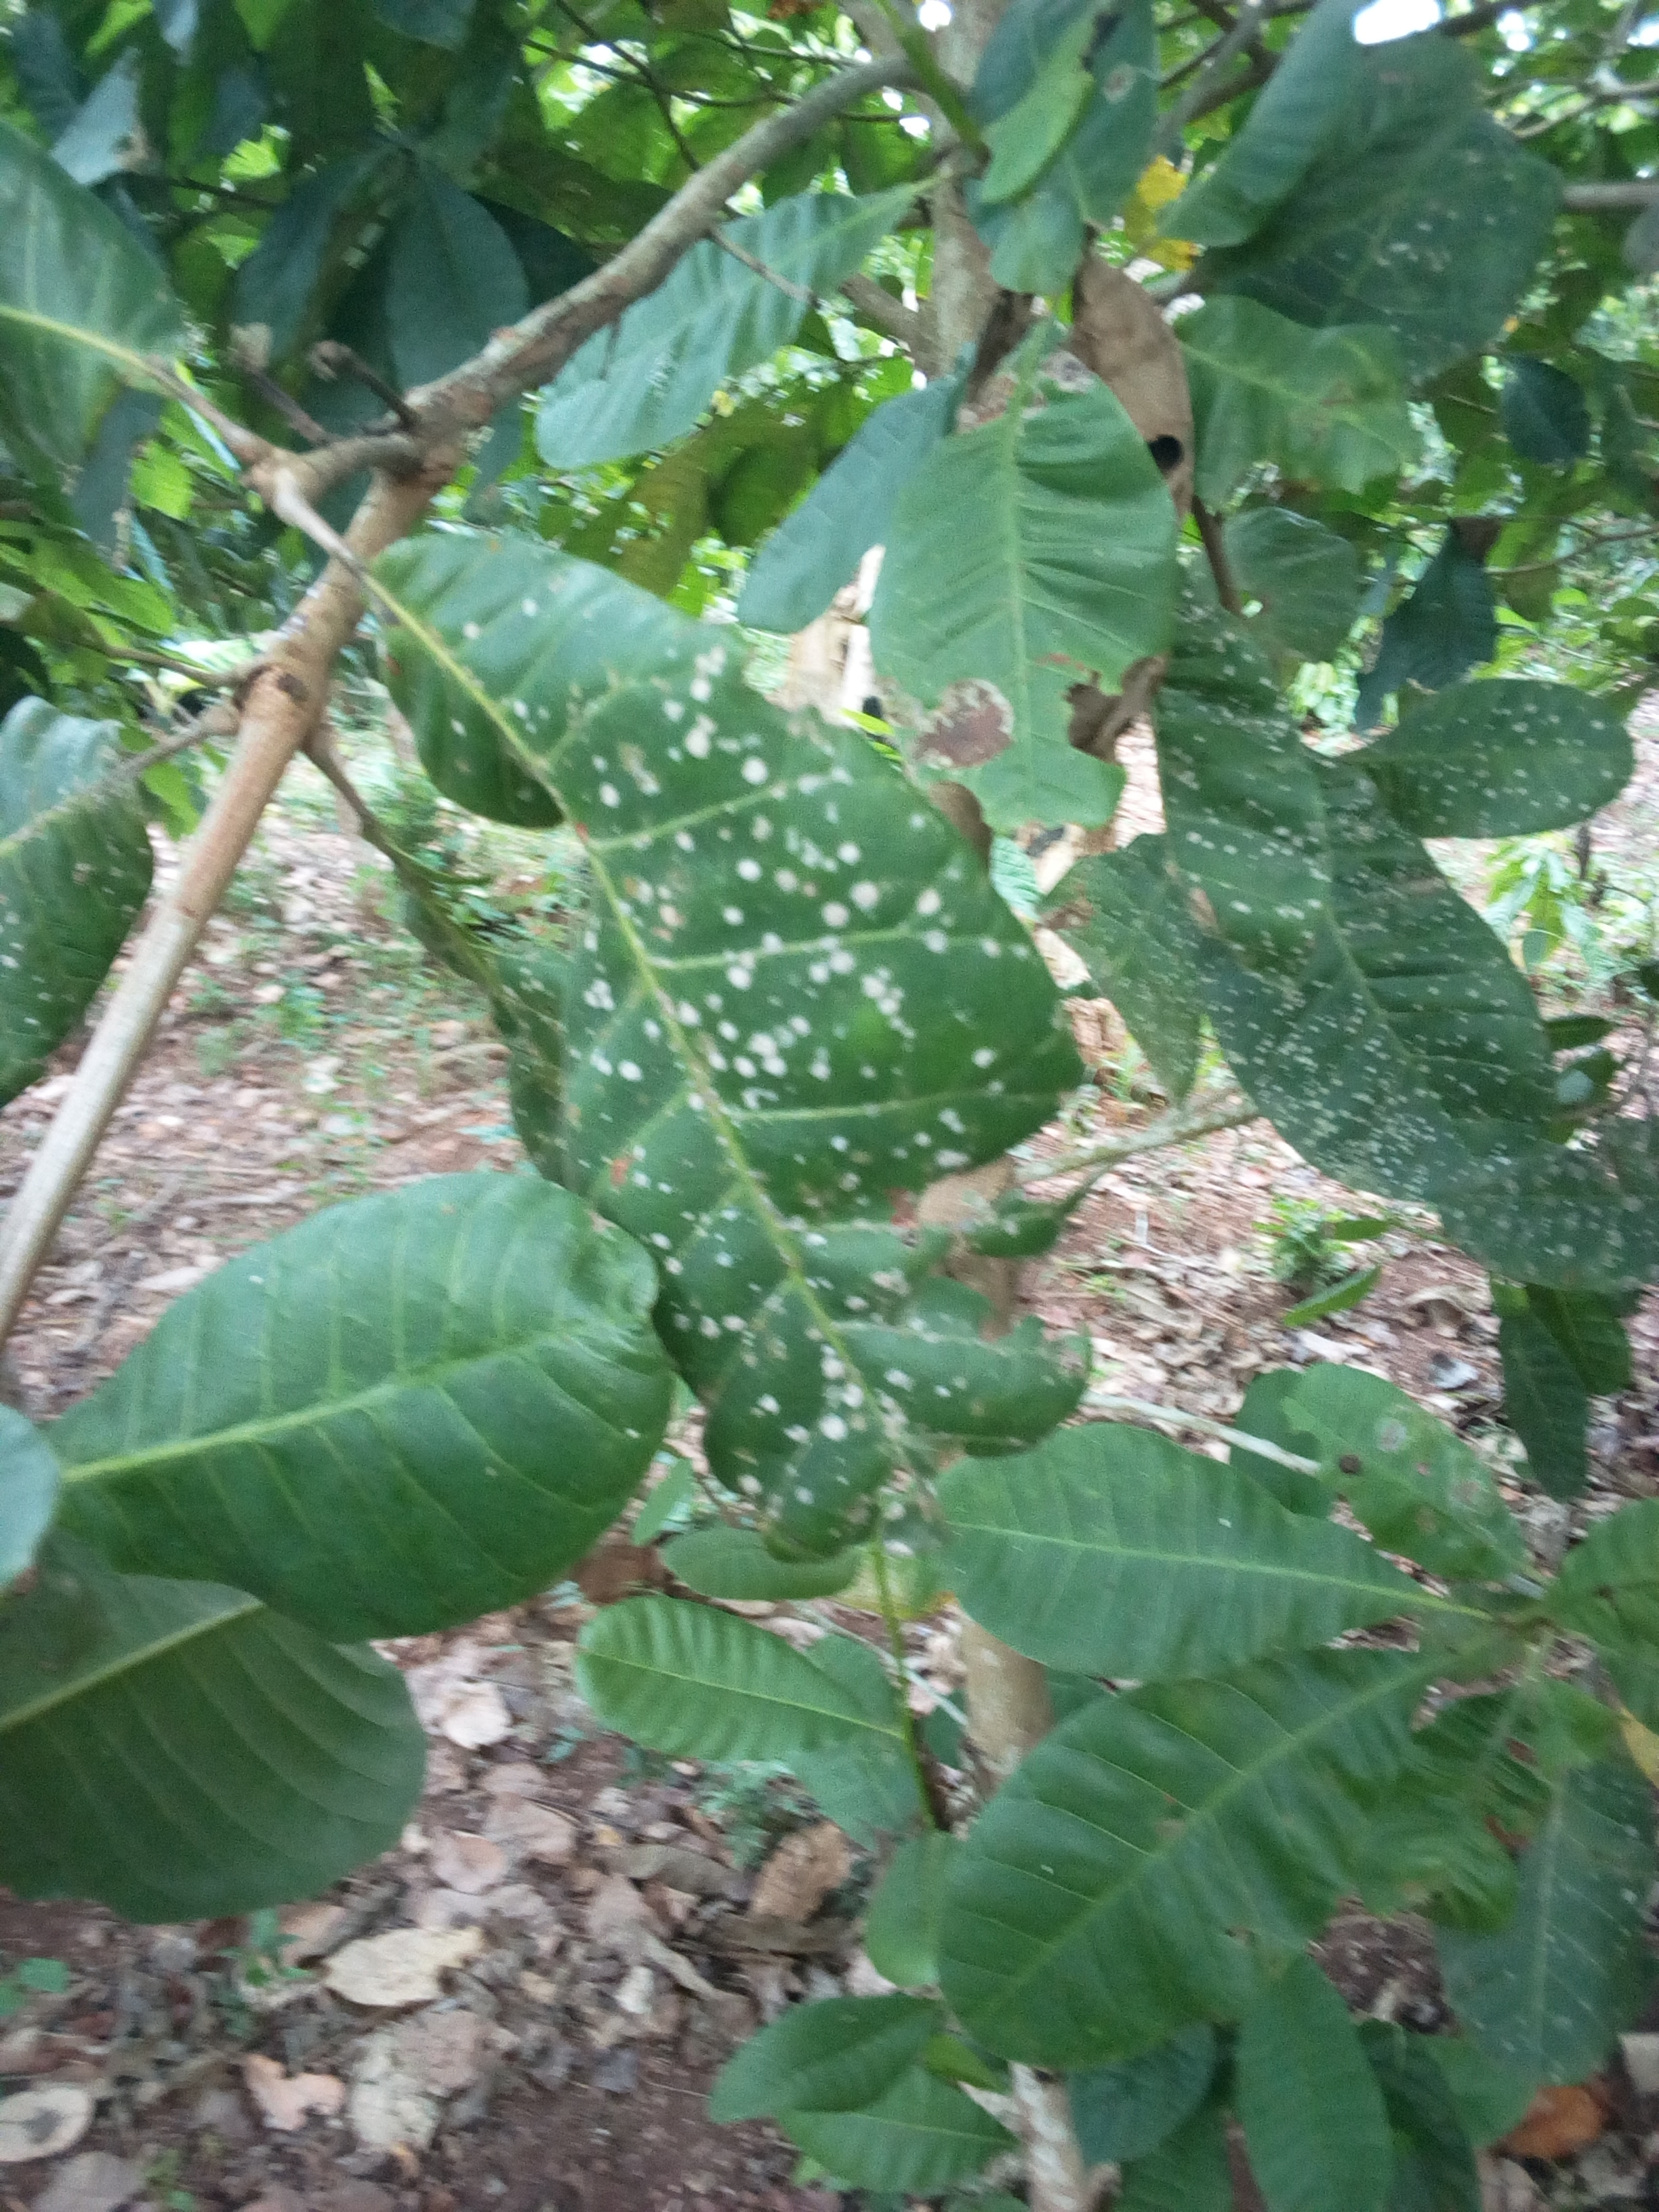Oïdium: (399, 526, 1087, 1526), (1162, 700, 1589, 1242), (1335, 35, 1575, 435)
